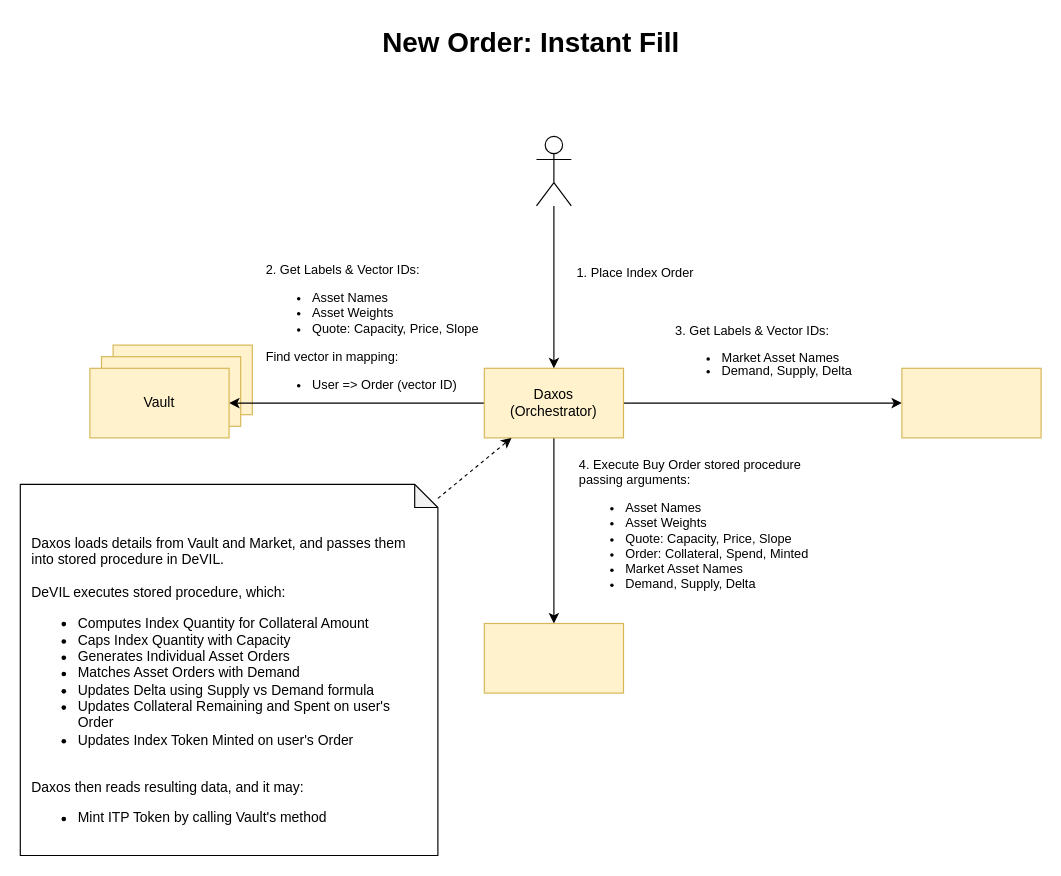
Image size: 1061x876. Some labels were removed from this diagram. Each missing label, with the box of its shape:
DeVIL (Vector Math): (483, 622, 624, 693)
Market: (901, 367, 1041, 438)
User: (535, 135, 571, 206)
